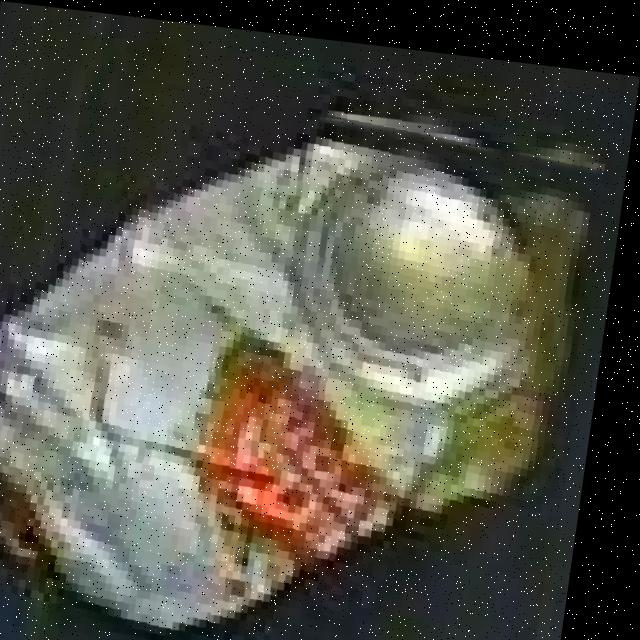litter: (0, 118, 624, 640)
